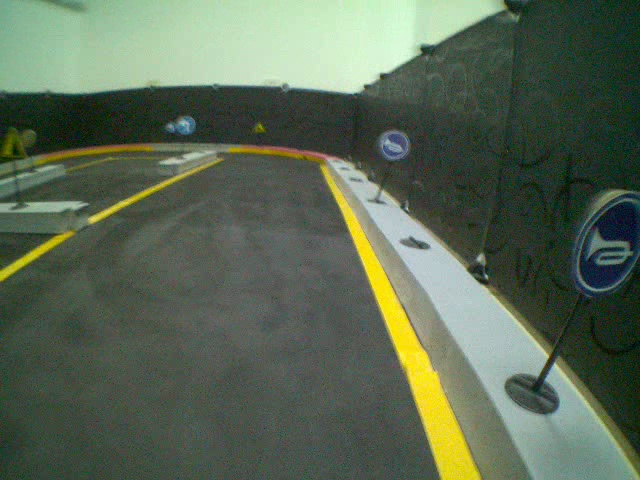fast: (1, 125, 29, 162)
horn: (568, 187, 640, 296), (379, 130, 411, 161)
turn: (177, 115, 197, 135)
